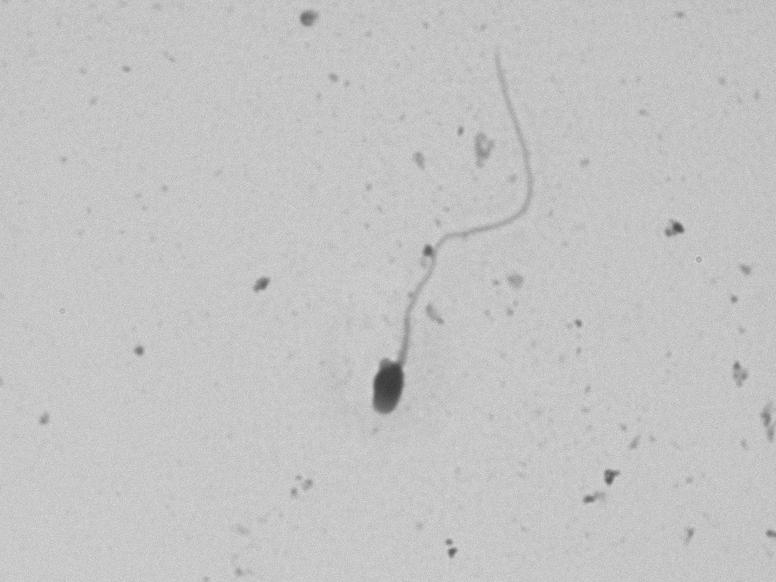Abnormal: (348, 36, 553, 435)
